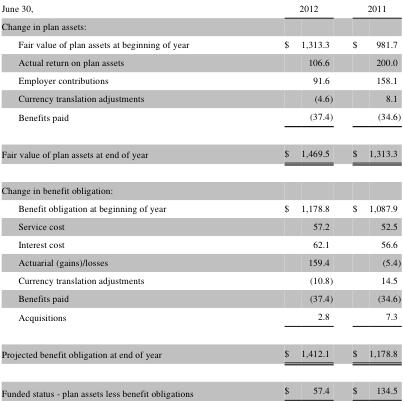table: (0, 0, 400, 398)
table column: (0, 0, 238, 398), (238, 0, 341, 398), (341, 0, 400, 398)
table column header: (0, 0, 400, 16)
table projected row header: (0, 171, 400, 198), (0, 16, 400, 34)
table row: (0, 134, 400, 171), (0, 334, 400, 371), (0, 106, 400, 134), (0, 306, 400, 334), (0, 171, 400, 198), (0, 371, 400, 398), (0, 16, 400, 34), (0, 34, 400, 52), (0, 52, 400, 70), (0, 70, 400, 88), (0, 88, 400, 106), (0, 198, 400, 216), (0, 216, 400, 234), (0, 234, 400, 252), (0, 252, 400, 270), (0, 270, 400, 288), (0, 288, 400, 306), (0, 0, 400, 16)
